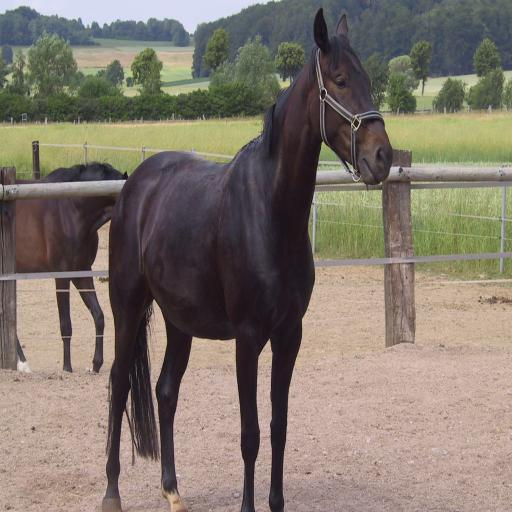horse: (100, 4, 394, 512), (18, 155, 128, 373)
